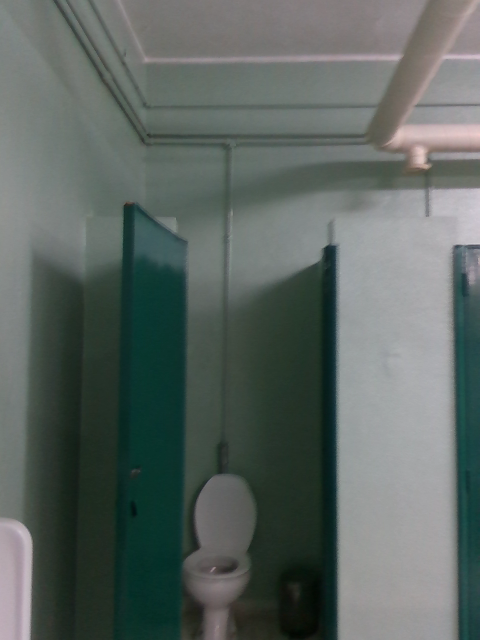open: (120, 206, 190, 639)
